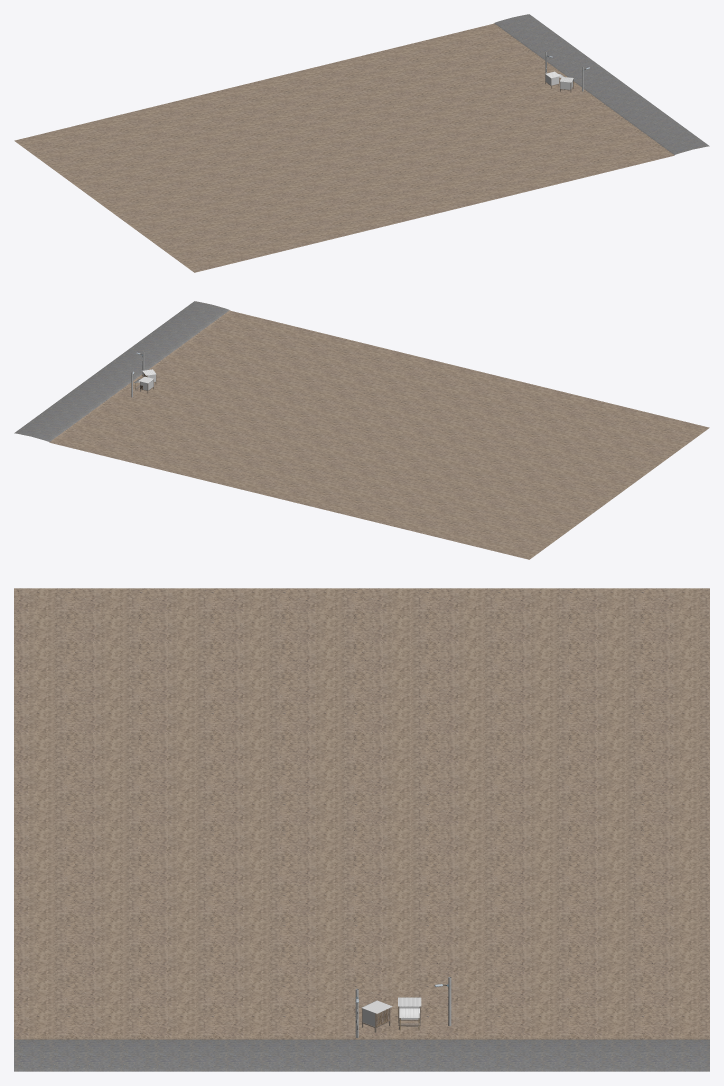
Rendered from panshop.fbx.
The picture shows the model from 3 angles, top to bottom: view 1: azimuth 30°, elevation 25°; view 2: azimuth 150°, elevation 25°; view 3: azimuth 270°, elevation 25°; orthographic projection. The views are drawn at different scales.
Visible parts, largest first — view 1: Plane.018, Plane.022; view 2: Plane.018, Plane.022; view 3: Plane.018, Plane.022.
Boxes of the visible parts, x1=… form: Plane.018: x1=14, y1=23, x2=674, y2=272; Plane.022: x1=494, y1=14, x2=709, y2=155; Plane.018: x1=49, y1=310, x2=709, y2=559; Plane.022: x1=14, y1=301, x2=229, y2=442; Plane.018: x1=14, y1=588, x2=709, y2=1039; Plane.022: x1=14, y1=1039, x2=709, y2=1071.
Bounding box in the file's own units: 22098 × 1037 × 13402.
